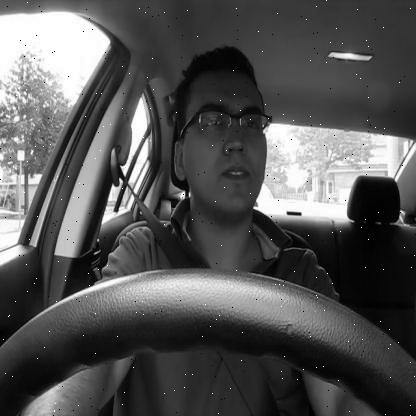seatbelt: (106, 36, 272, 416)
